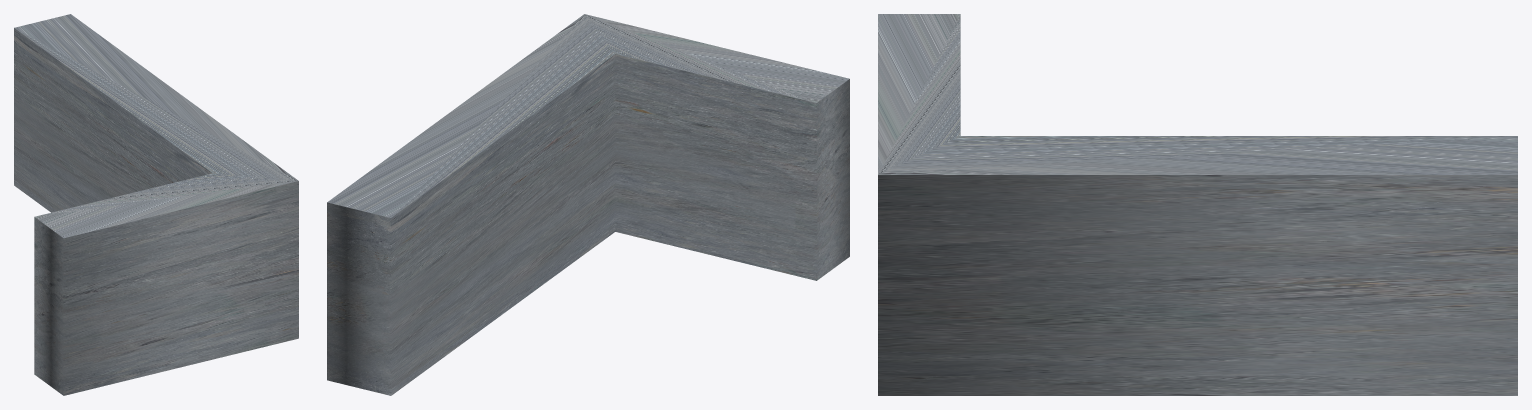
File: l_obstaculo.obj
The picture shows the model from 3 angles, left to right: view 1: azimuth 30°, elevation 25°; view 2: azimuth 150°, elevation 25°; view 3: azimuth 270°, elevation 25°; orthographic projection. The views are drawn at different scales.
Parts seen in each view (by area): view 1: Text.001_Text.002; view 2: Text.001_Text.002; view 3: Text.001_Text.002.
Part boxes in pixels (x1=…): Text.001_Text.002: x1=14, y1=14, x2=298, y2=395; Text.001_Text.002: x1=327, y1=14, x2=849, y2=395; Text.001_Text.002: x1=878, y1=14, x2=1517, y2=395.
Size of the model in its own units: 4.63 by 2.97 by 7.78.
1 material, 1 textured.
